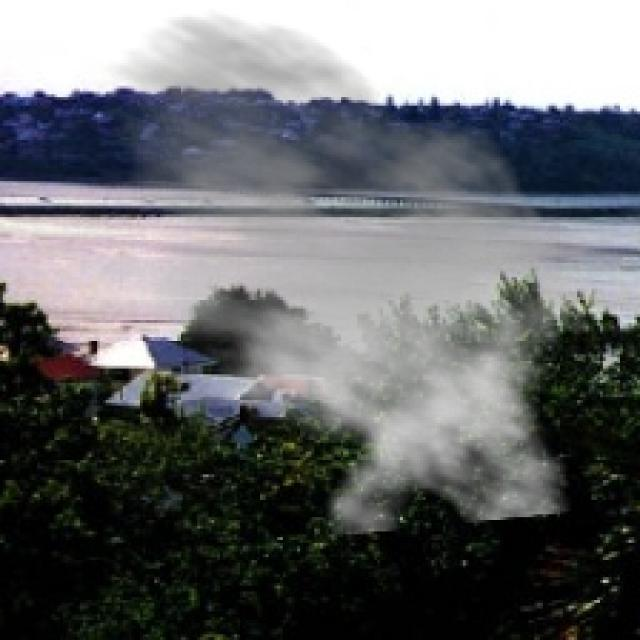Smoke: (54, 9, 609, 538)
